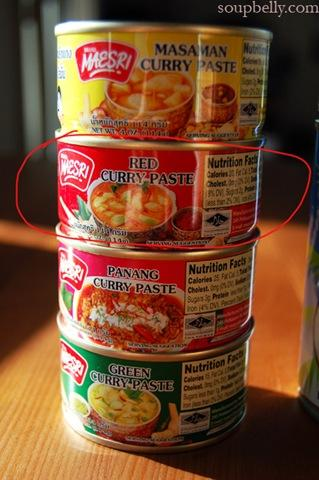metal: (56, 21, 272, 454)
